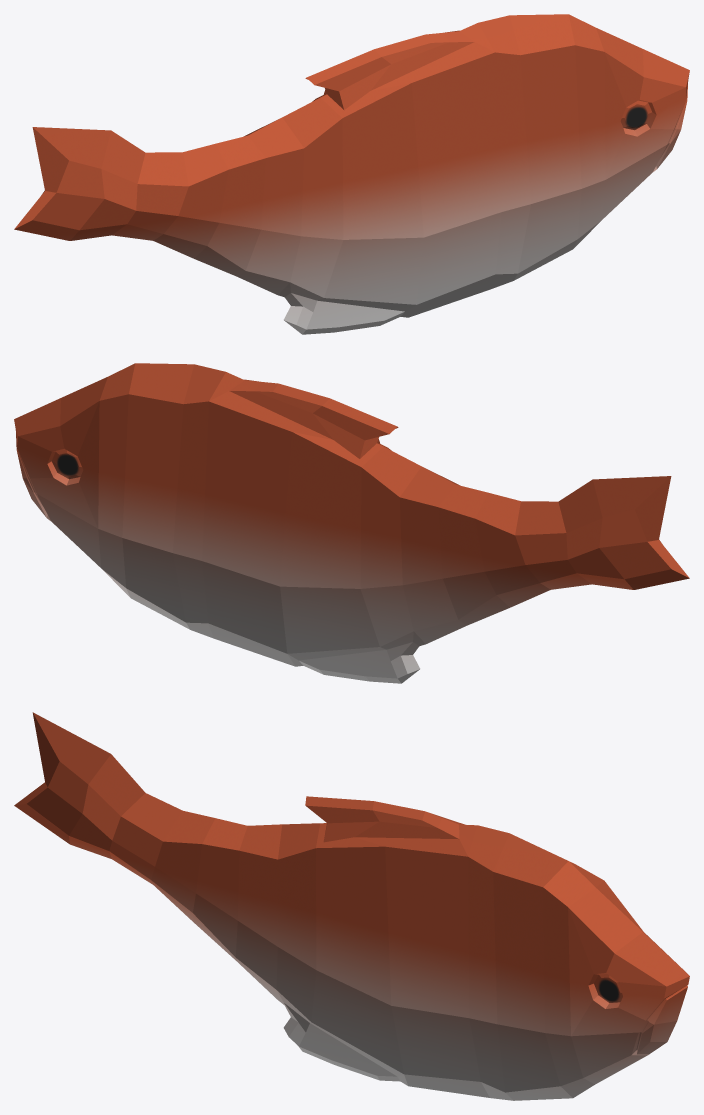
File: Fish_Red 1.fbx
3 views of the same model, one above another, from view 1: azimuth 30°, elevation 25°; view 2: azimuth 150°, elevation 25°; view 3: azimuth 330°, elevation 25° (orthographic).
Visible parts, largest first — view 1: FishV1; view 2: FishV1; view 3: FishV1.
Boxes of the visible parts, left/top/right/bottom form: FishV1: left=14, top=14, right=689, bottom=334; FishV1: left=14, top=363, right=689, bottom=683; FishV1: left=14, top=712, right=689, bottom=1100.
Bounding box in the file's own units: 77.06 × 30.91 × 7.22.
